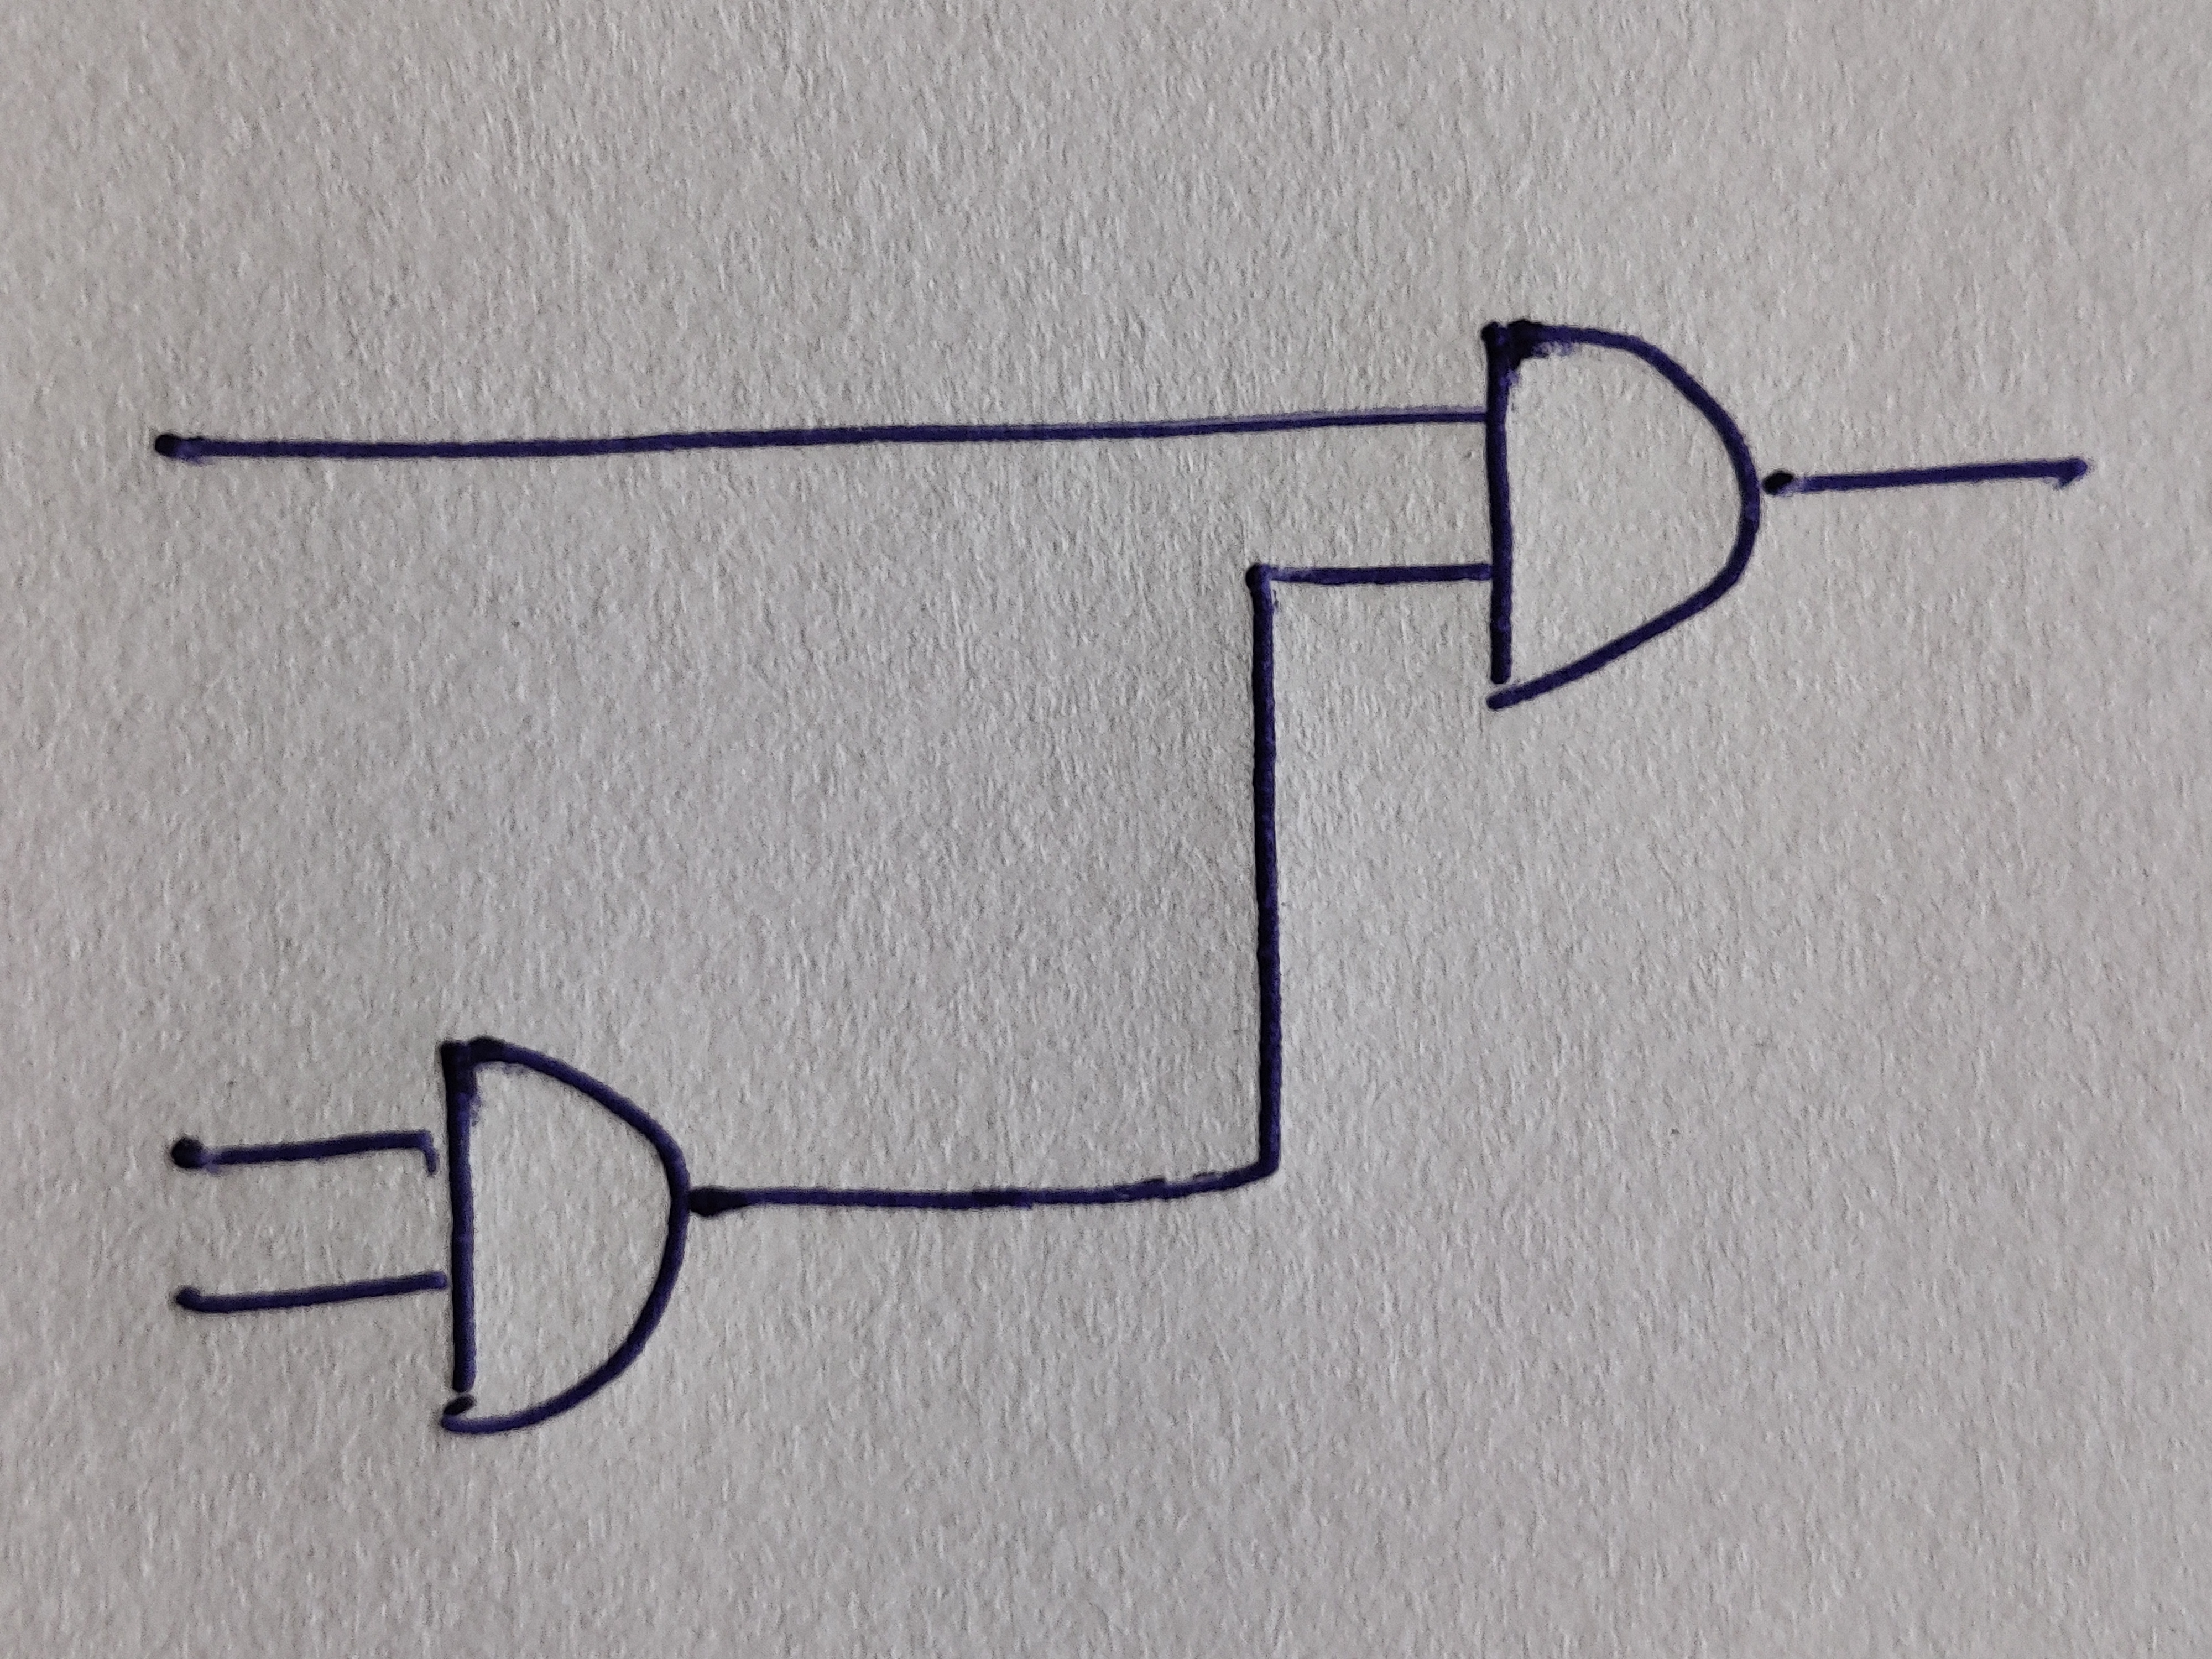and: (1480, 317, 1764, 711), (439, 1037, 690, 1434)
